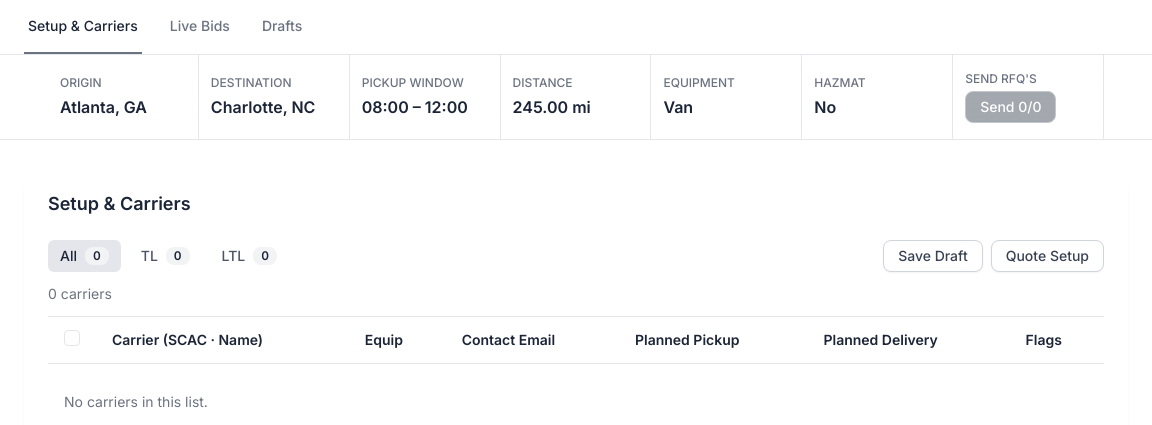
Test: SpotBoardTab › Drafts › Delete removes a draft row
Click the button "Drafts" at [282, 35], box [258,16,306,54]
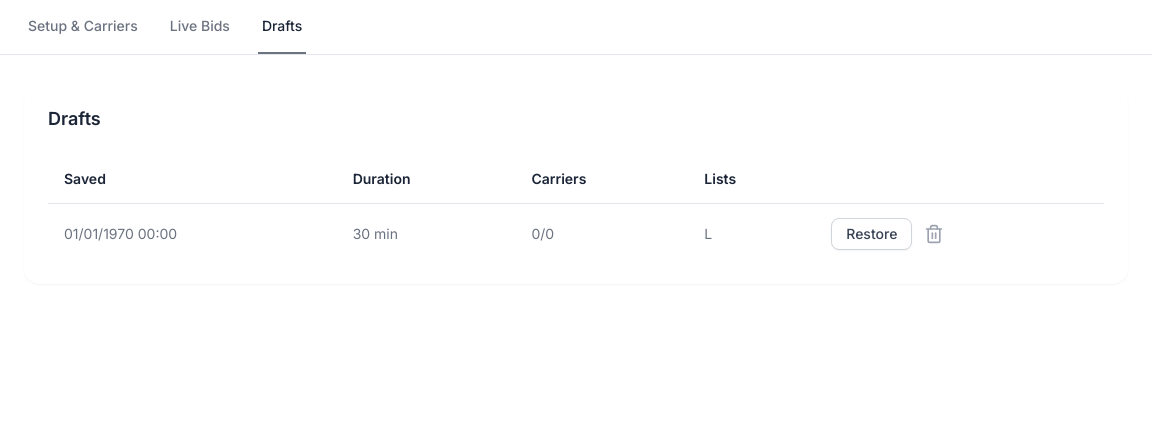
Now the button "Restore" is shown, box [831,218,912,250]
Click the button named "Delete draft" at [934, 234], box [924,224,944,244]
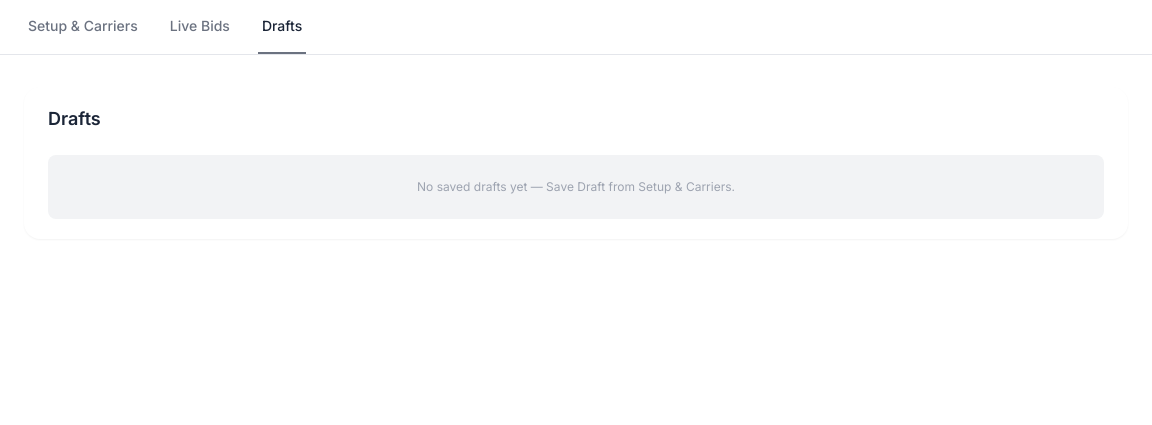
Now the button "Restore" is gone
Now the text "No saved drafts yet — Save Draft from Setup & Carriers." is shown, box [417,179,735,195]
